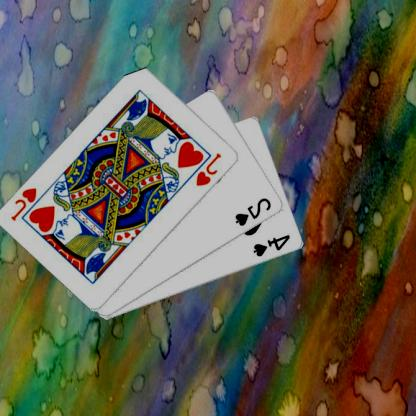2S: (234, 195, 275, 227)
4S: (252, 232, 294, 258)
JH: (195, 150, 225, 188), (10, 185, 40, 222)
